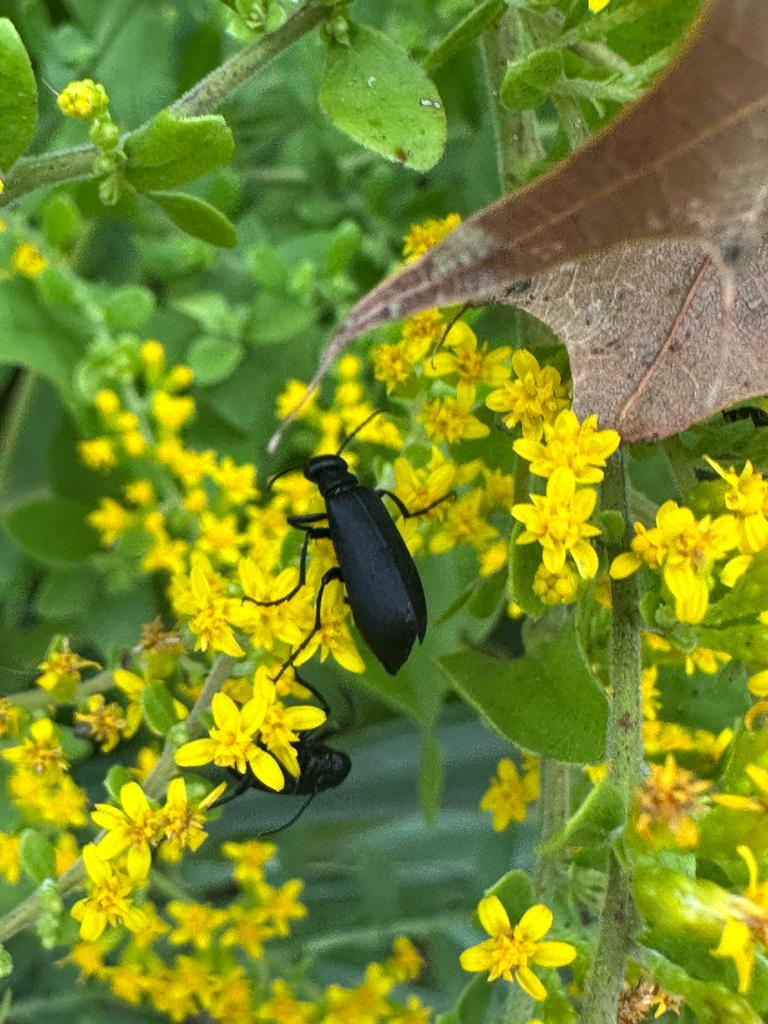blister_beetle: (205, 378, 494, 704)
